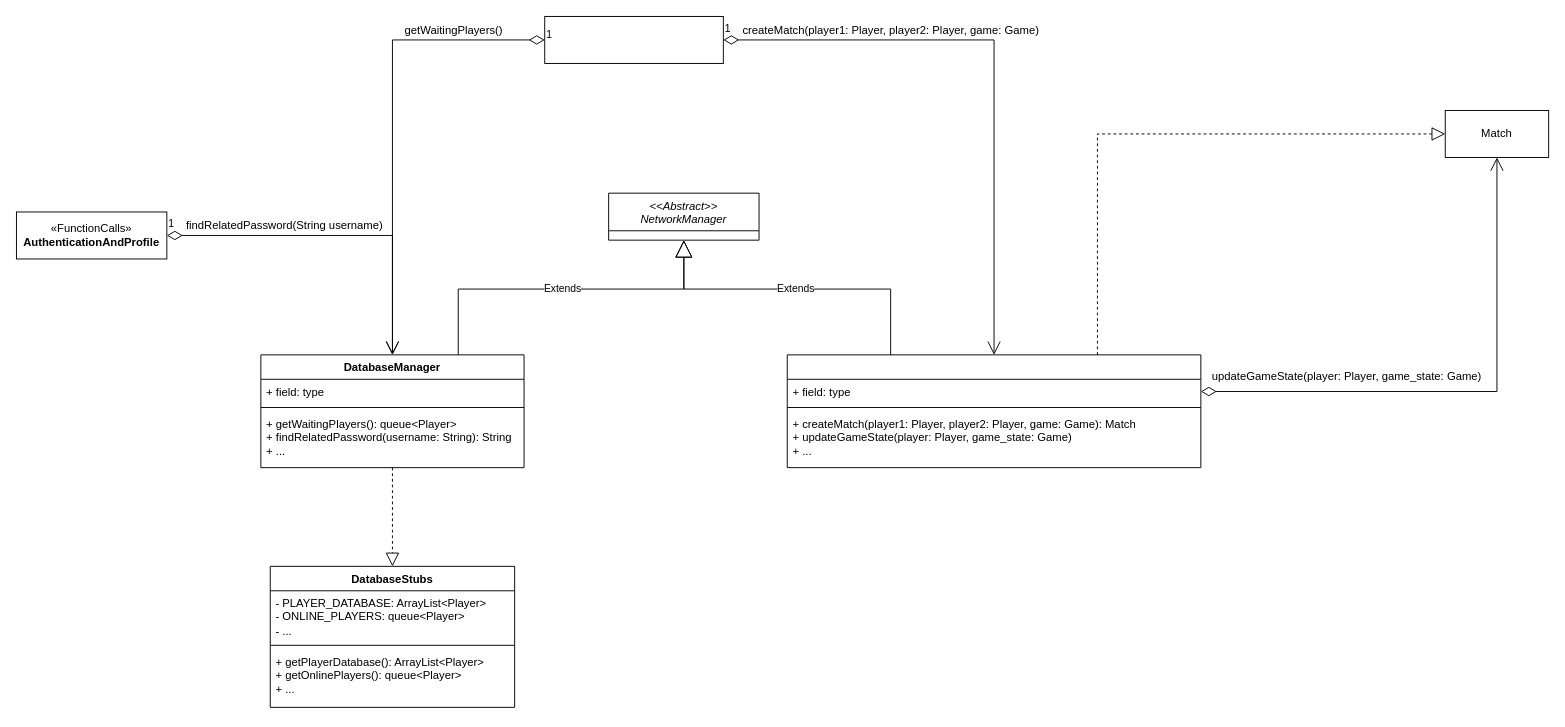
This 1565x727 diagram has some shape labels left out. Each missing label, with the box of its shape:
GameServerManager: (786, 354, 1201, 468)
«FunctionCalls» MatchmakingAndLeaderboard: (544, 16, 723, 63)
